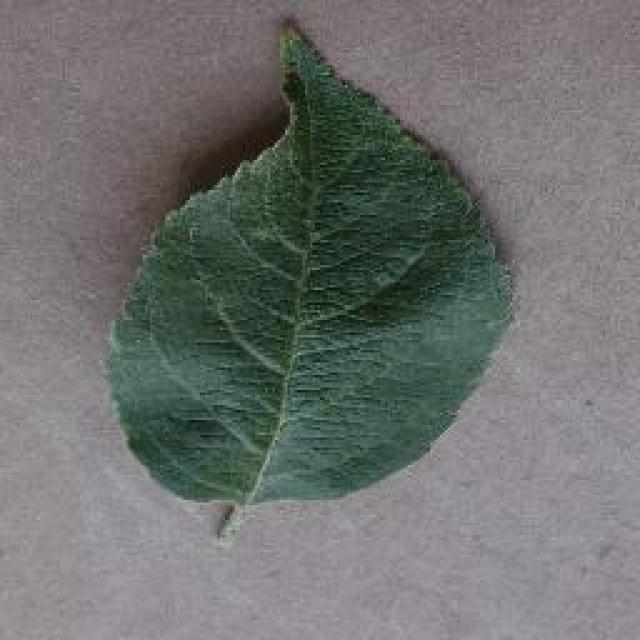apple healthy: (100, 12, 518, 538)
